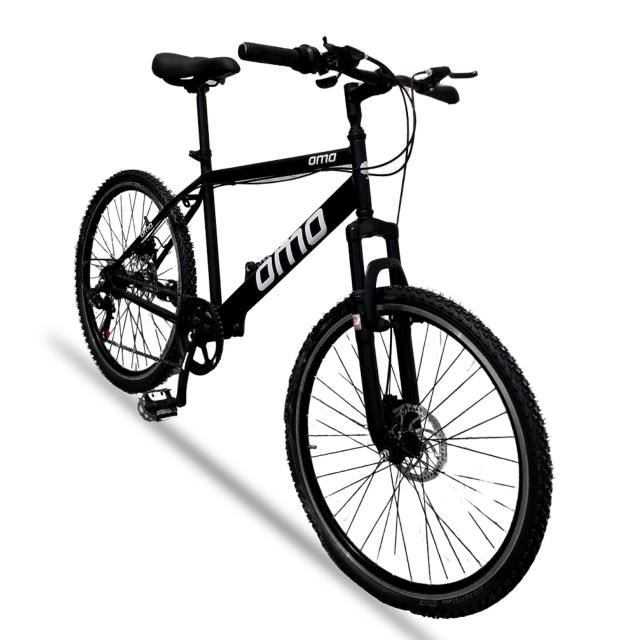bicycle: (76, 41, 551, 618)
